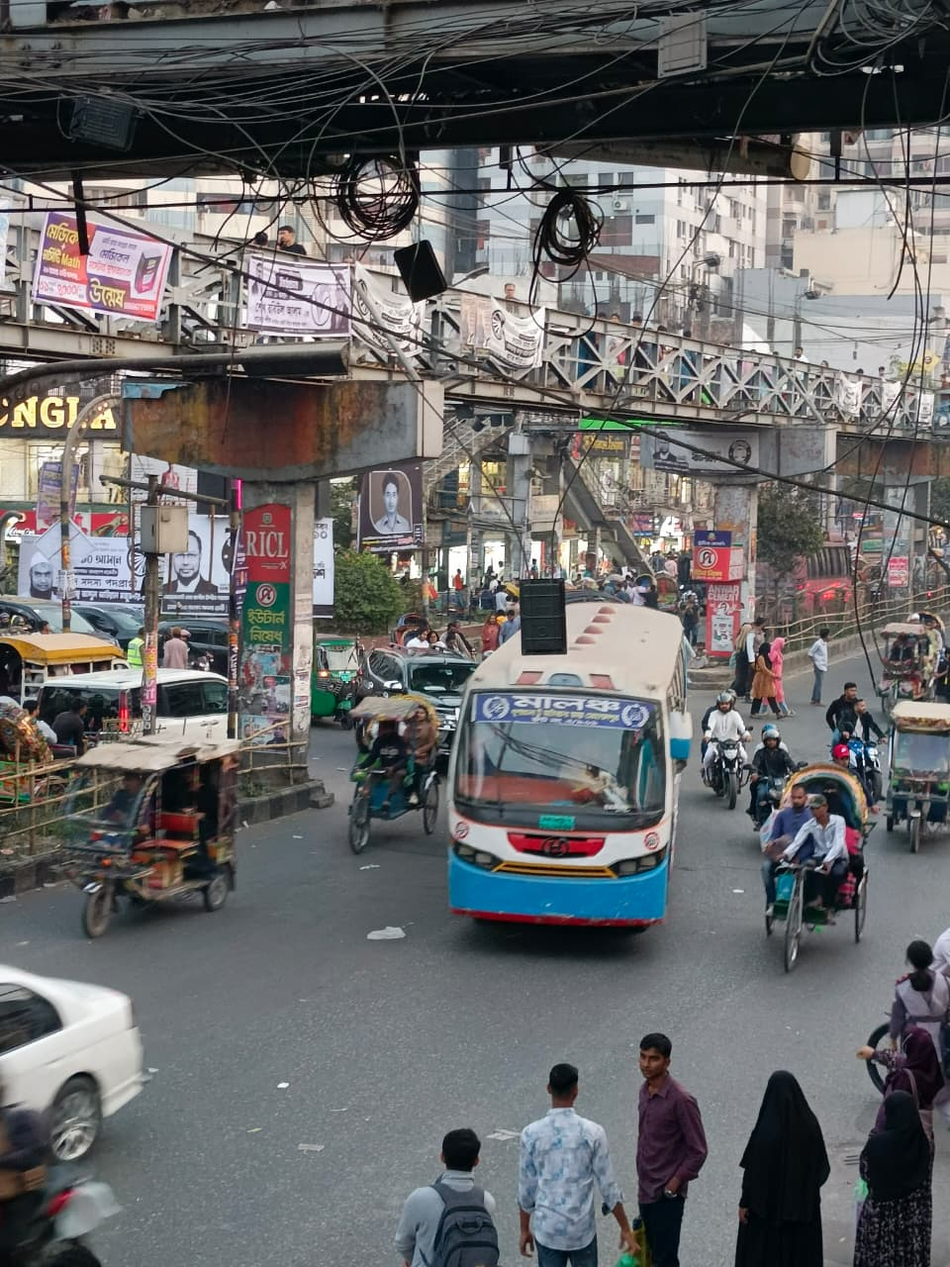Bikes: (712, 688, 790, 813), (841, 671, 897, 779)
Bus: (445, 580, 709, 1004)
Leguna: (5, 594, 139, 757)
auto-ricksaw: (77, 738, 263, 933), (309, 679, 461, 876), (769, 770, 897, 955), (888, 679, 950, 856), (854, 580, 950, 682)
private car: (20, 921, 188, 1198), (32, 669, 297, 785)
